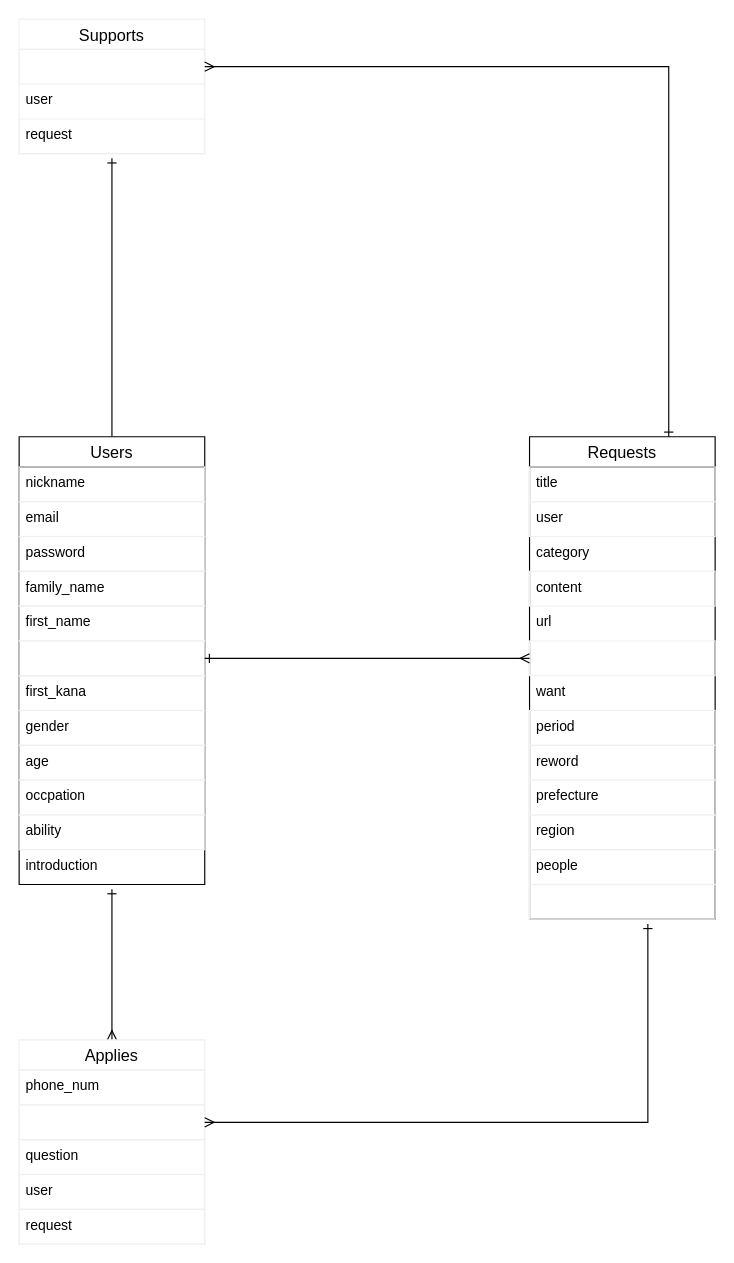
Image size: 734x1263. Some labels were removed from this diagram. Each missing label, with the centre of its shape:
"donation" goes at point 621,901.
"family_kana" goes at point 111,658.
"job" goes at point 621,658.
"price" goes at point 111,66.
"reason" goes at point 111,1122.
